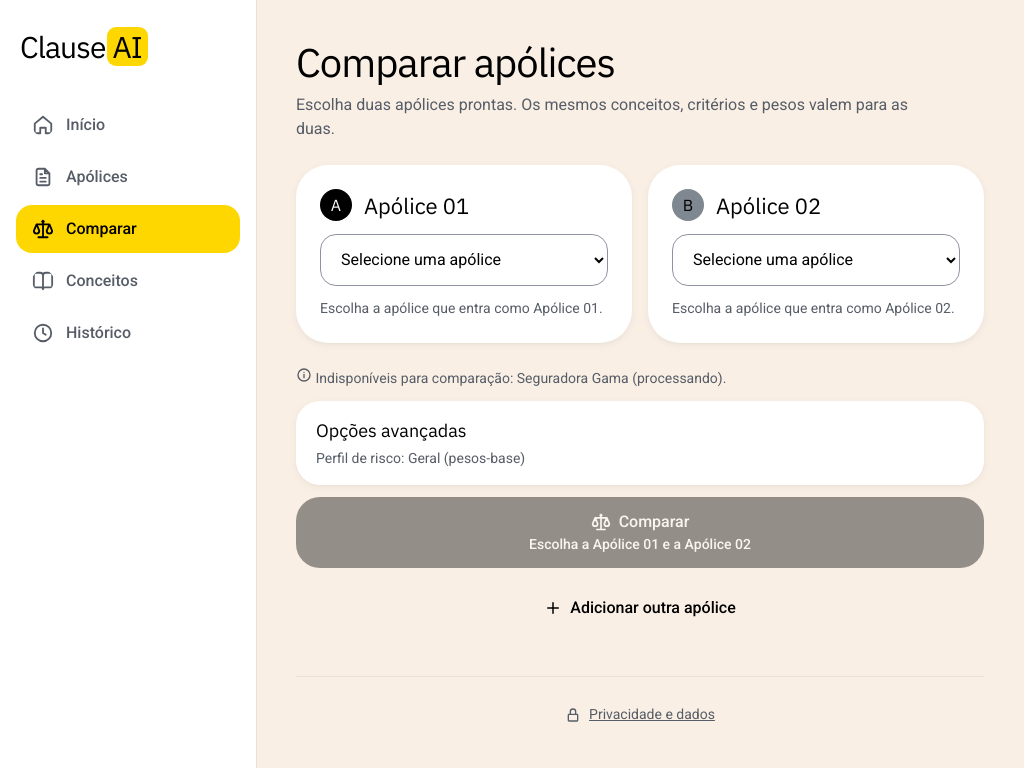
Test: Comparar › deixa o botão indisponível e diz o que falta
Expected: the button "Comparar Escolha a Apólice 01 e a Apólice 02" is disabled, [296,497,984,568]
Expected: the button "Comparar Escolha a Apólice 01 e a Apólice 02" is shown, [296,497,984,568]
Select "Seguradora Alfa — D&O Alfa · apolice.pdf" in the dropdown labelled "A Apólice 01" at (464, 260), box [320,234,608,286]
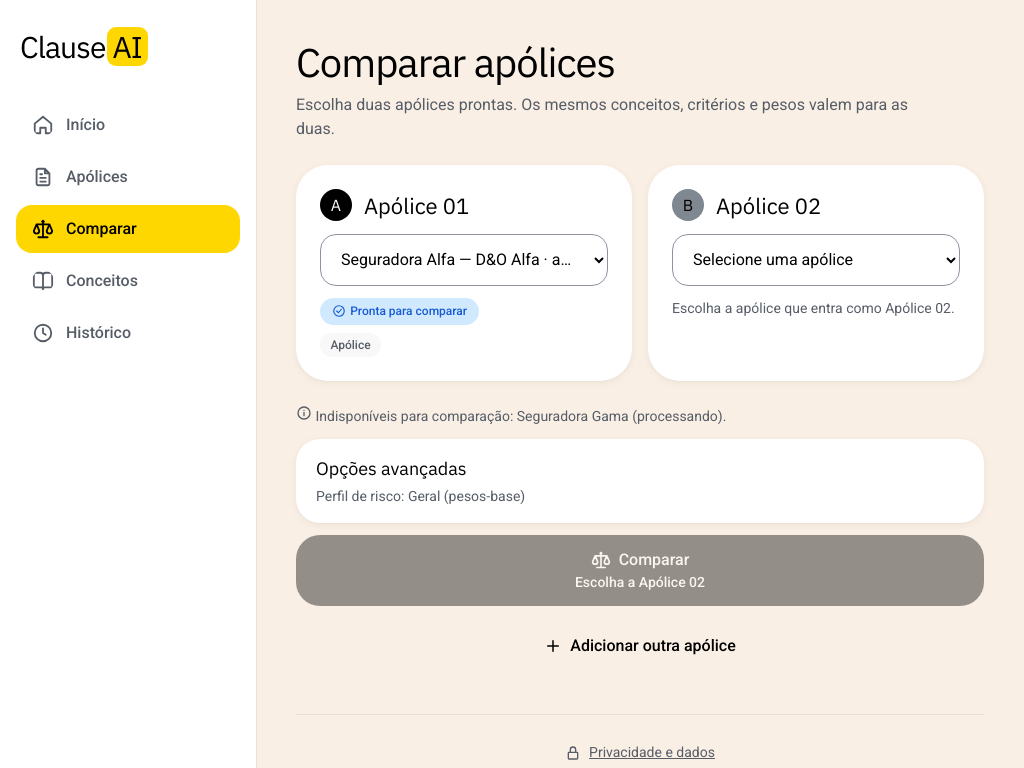
Result: the button "Comparar Escolha a Apólice 02" is shown at [296,535,984,606]
Select "Seguradora Beta — D&O Beta · apolice.pdf" in the dropdown labelled "B Apólice 02" at (816, 260), box [672,234,960,286]
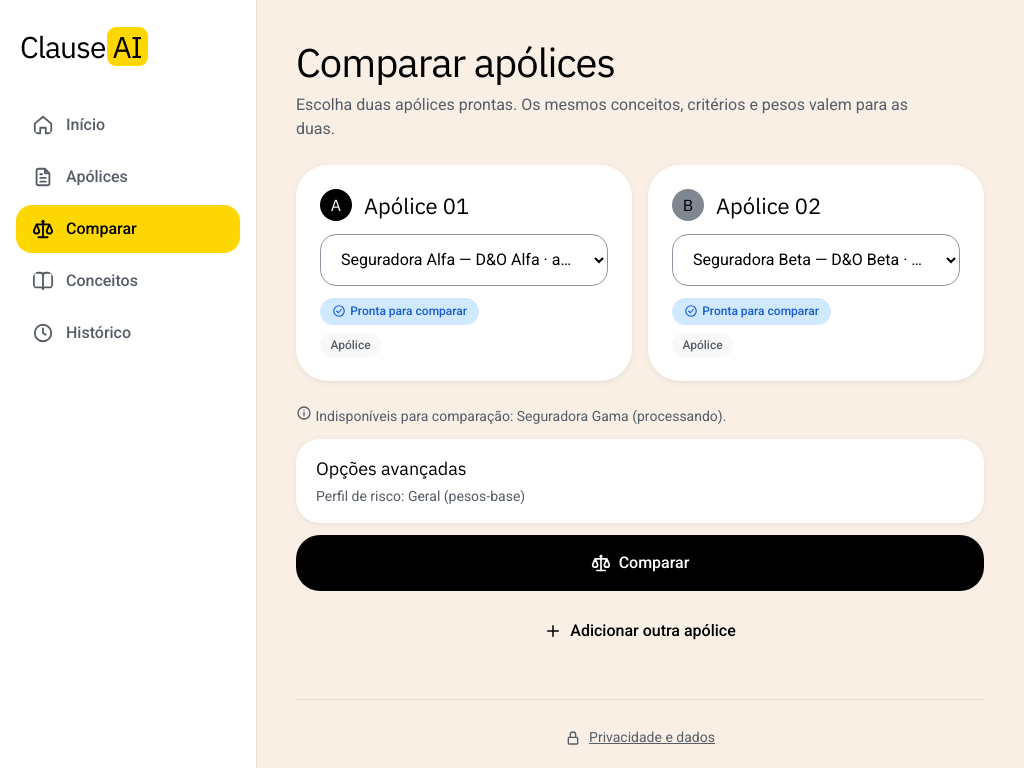
Expected: the button "Comparar" does not show "Escolha", [296,535,984,591]
Result: the button "Comparar" is enabled at [296,535,984,591]
